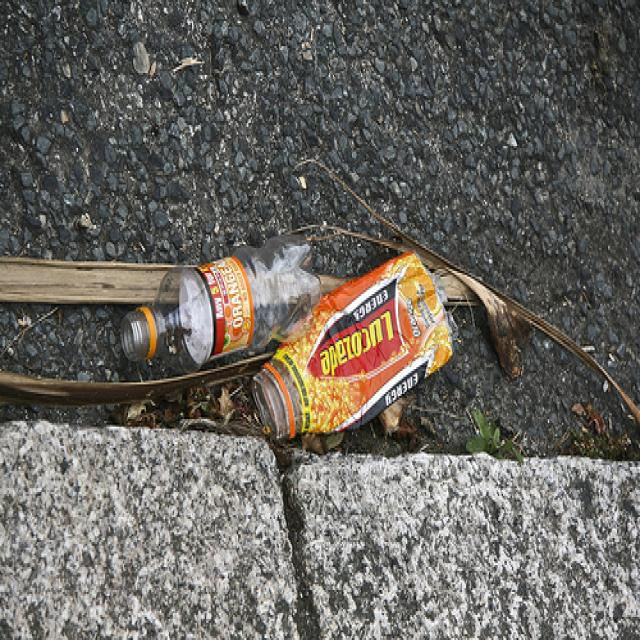garbage: (111, 229, 461, 440)
